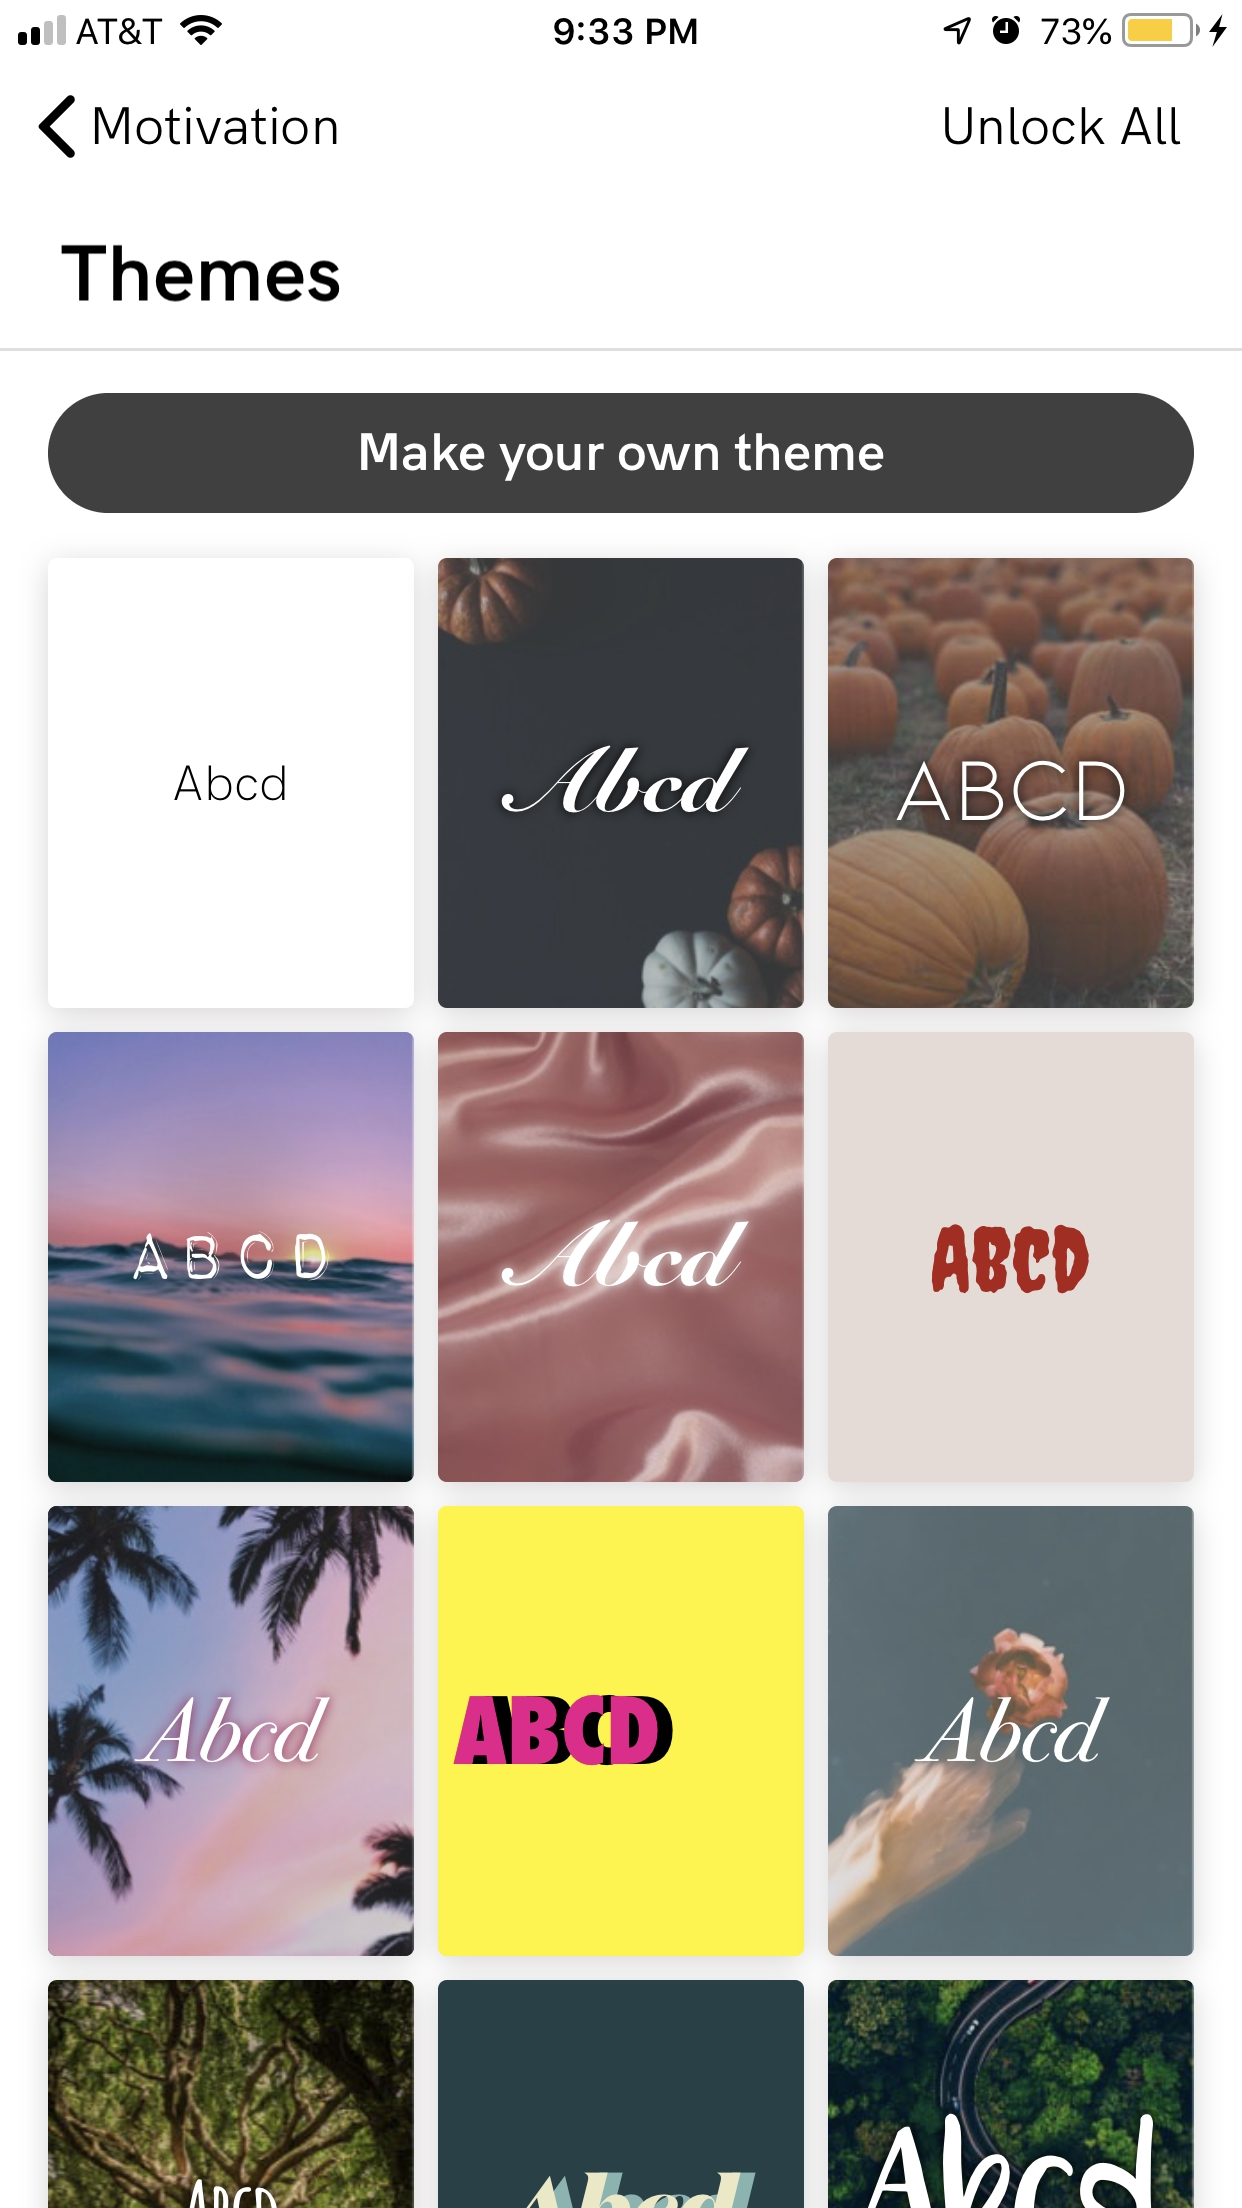Icon: (39, 96, 76, 159)
Image: (828, 1506, 1195, 1956), (49, 1506, 416, 1956), (438, 1506, 805, 1956), (828, 1033, 1195, 1483), (438, 1033, 805, 1483), (49, 1033, 416, 1483), (49, 558, 416, 1008), (438, 558, 805, 1008), (828, 558, 1195, 1008), (828, 1979, 1195, 2208), (49, 1979, 416, 2208), (438, 1979, 805, 2208)
Text: (62, 247, 341, 302), (96, 108, 338, 146), (943, 108, 1181, 146)
TextButton: (49, 393, 1195, 514)
UpperTaskBar: (2, 2, 1242, 49)
